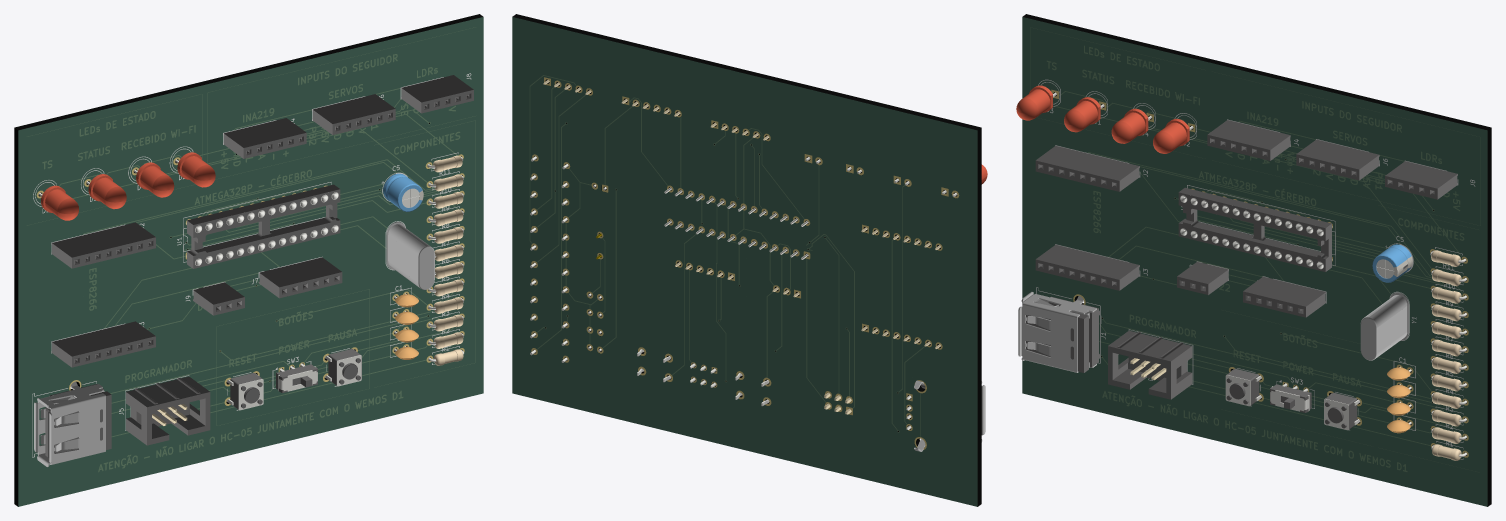
Rendered from pcb_model.compressed.glb.
The picture shows the model from 3 angles, left to right: view 1: azimuth 30°, elevation 25°; view 2: azimuth 150°, elevation 25°; view 3: azimuth 330°, elevation 25°; orthographic projection.
Visible parts, largest first — view 1: Shape_2977, Shape_2974, Shape_2976, Shape_2975, Shape_2980, Shape_33, Shape_1917, Shape_1518, Shape_763, Shape_760, Shape_1155, Shape_1751 (+18 smaller); view 2: Shape_2979, Shape_2974, Shape_2978, Shape_2975; view 3: Shape_2977, Shape_2974, Shape_2975, Shape_2976, Shape_2980, Shape_33, Shape_1518, Shape_1917, Shape_763, Shape_760, Shape_1751, Shape_590 (+18 smaller).
Part boxes in pixels (left/top/right/bottom): Shape_2977: left=18, top=17, right=483, bottom=506; Shape_2974: left=19, top=17, right=482, bottom=505; Shape_2976: left=36, top=54, right=464, bottom=469; Shape_2975: left=14, top=14, right=482, bottom=506; Shape_2980: left=32, top=73, right=471, bottom=457; Shape_33: left=51, top=397, right=105, bottom=463; Shape_1917: left=52, top=321, right=155, bottom=356; Shape_1518: left=52, top=222, right=155, bottom=257; Shape_763: left=193, top=189, right=340, bottom=242; Shape_760: left=193, top=219, right=340, bottom=268; Shape_1155: left=224, top=118, right=306, bottom=147; Shape_1751: left=313, top=94, right=395, bottom=123; Shape_2979: left=512, top=17, right=977, bottom=506; Shape_2974: left=513, top=17, right=976, bottom=505; Shape_2978: left=531, top=75, right=959, bottom=449; Shape_2975: left=512, top=14, right=981, bottom=506; Shape_2977: left=1022, top=17, right=1487, bottom=506; Shape_2974: left=1023, top=17, right=1486, bottom=505; Shape_2975: left=1023, top=14, right=1491, bottom=506; Shape_2976: left=1047, top=46, right=1468, bottom=471; Shape_2980: left=1036, top=79, right=1475, bottom=459; Shape_33: left=1022, top=304, right=1076, bottom=371; Shape_1518: left=1036, top=146, right=1139, bottom=180; Shape_1917: left=1036, top=244, right=1139, bottom=279; Shape_763: left=1178, top=192, right=1325, bottom=246; Shape_760: left=1178, top=222, right=1325, bottom=271; Shape_1751: left=1296, top=139, right=1379, bottom=169; Shape_590: left=1243, top=276, right=1325, bottom=306.
Bounding box in the file's own units: 0.1125 × 0.087 × 0.0169.
